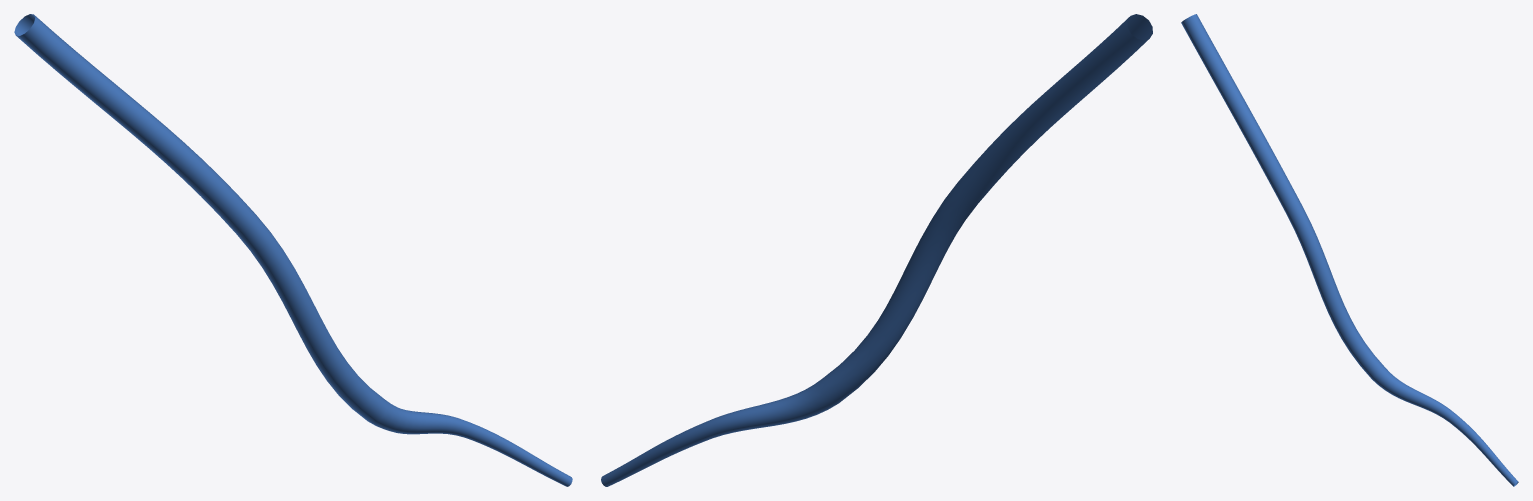
The picture shows the model from 3 angles, left to right: view 1: azimuth 30°, elevation 25°; view 2: azimuth 150°, elevation 25°; view 3: azimuth 330°, elevation 25°; orthographic projection. The views are drawn at different scales.
Parts seen in each view (by area): view 1: 右侧上唇静脉; view 2: 右侧上唇静脉; view 3: 右侧上唇静脉.
Boxes of the visible parts, x1,y1,x2,y2 form: 右侧上唇静脉: (14,14,572,486); 右侧上唇静脉: (601,14,1152,486); 右侧上唇静脉: (1181,14,1518,486).
Bounding box in the file's own units: 0.0326 × 0.0338 × 0.0051.
